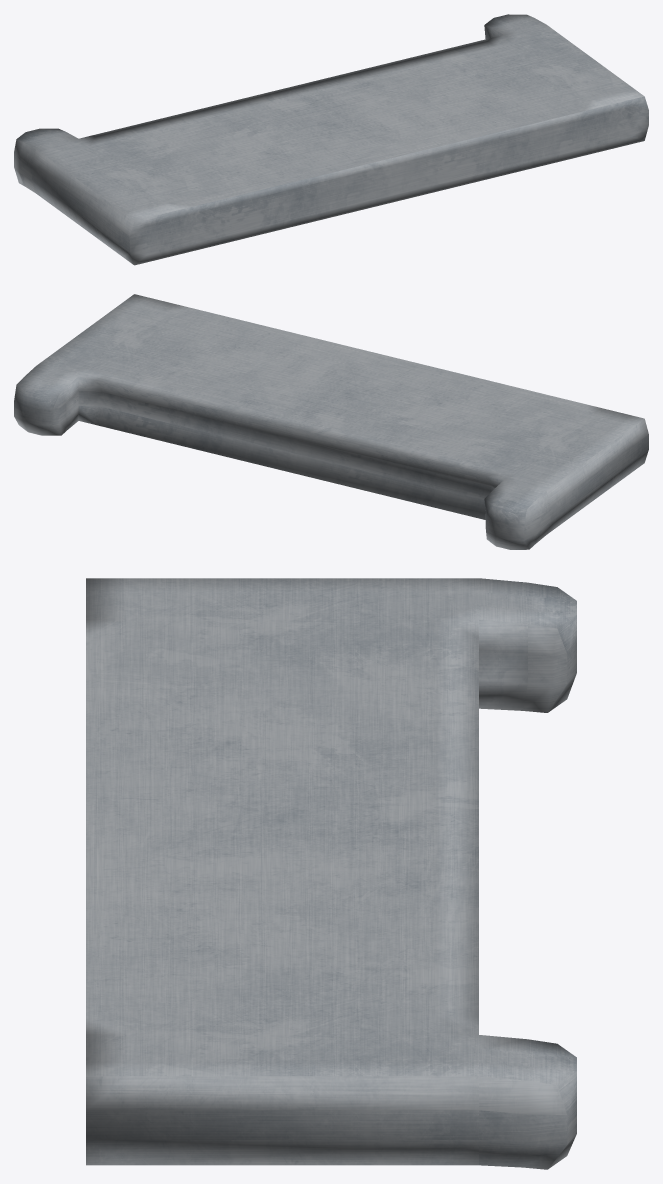
The model's file is Watch-Band-Connector.obj.
3 renders of one model, top to bottom at view 1: azimuth 30°, elevation 25°; view 2: azimuth 150°, elevation 25°; view 3: azimuth 270°, elevation 25°, orthographic. The views are drawn at different scales.
Visible parts, largest first — view 1: Watch-Band-Connector; view 2: Watch-Band-Connector; view 3: Watch-Band-Connector.
Boxes of the visible parts, <box> form: Watch-Band-Connector: <box>14,14,648,265</box>; Watch-Band-Connector: <box>14,294,648,549</box>; Watch-Band-Connector: <box>86,578,576,1169</box>.
Size of the model in its own units: 1.22 by 0.105 by 0.5.
